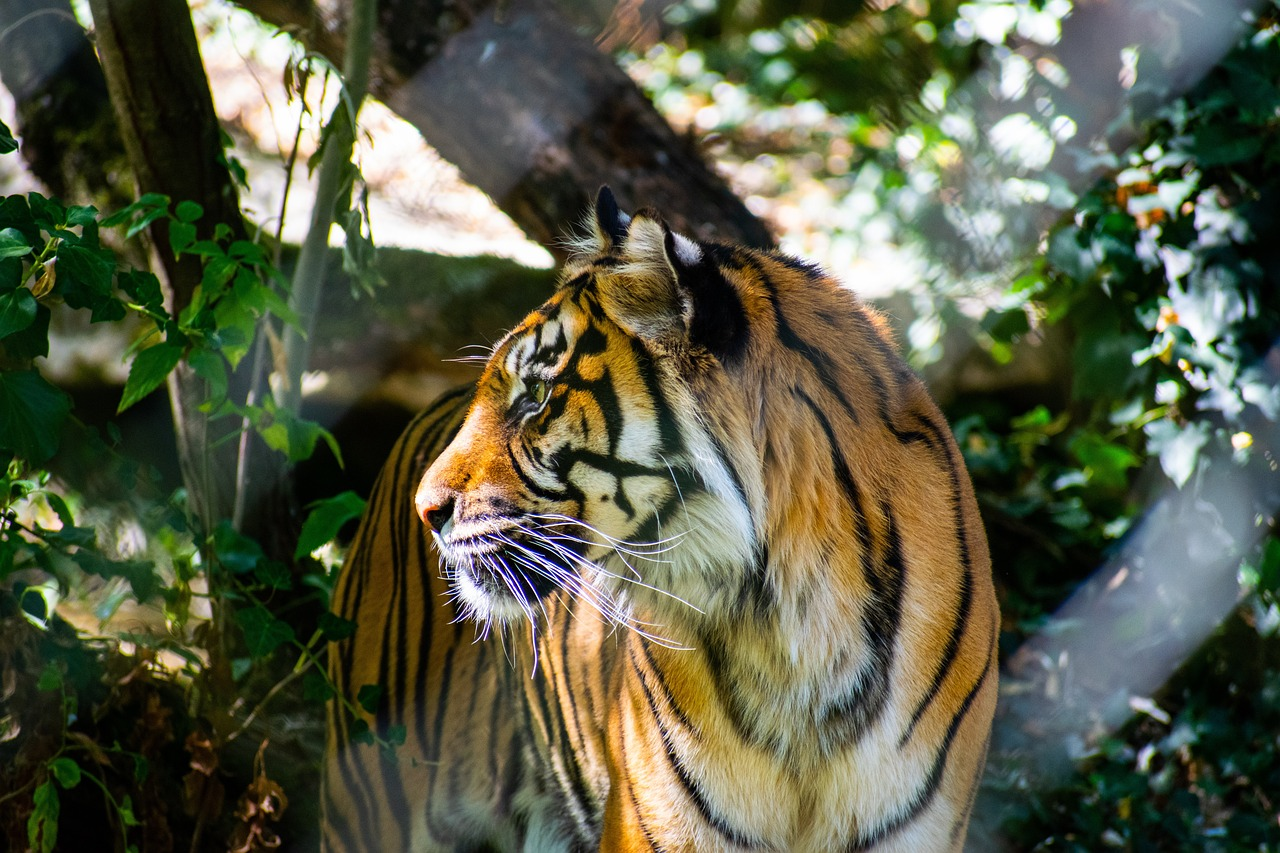tiger: (394, 180, 772, 648)
